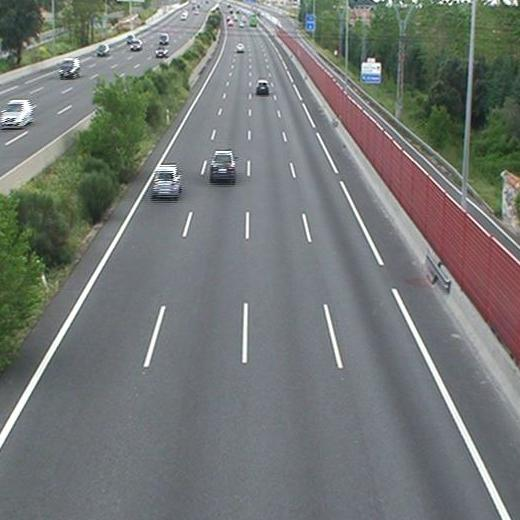car: (151, 166, 182, 197), (210, 151, 236, 180), (256, 80, 269, 95), (235, 43, 245, 53)
